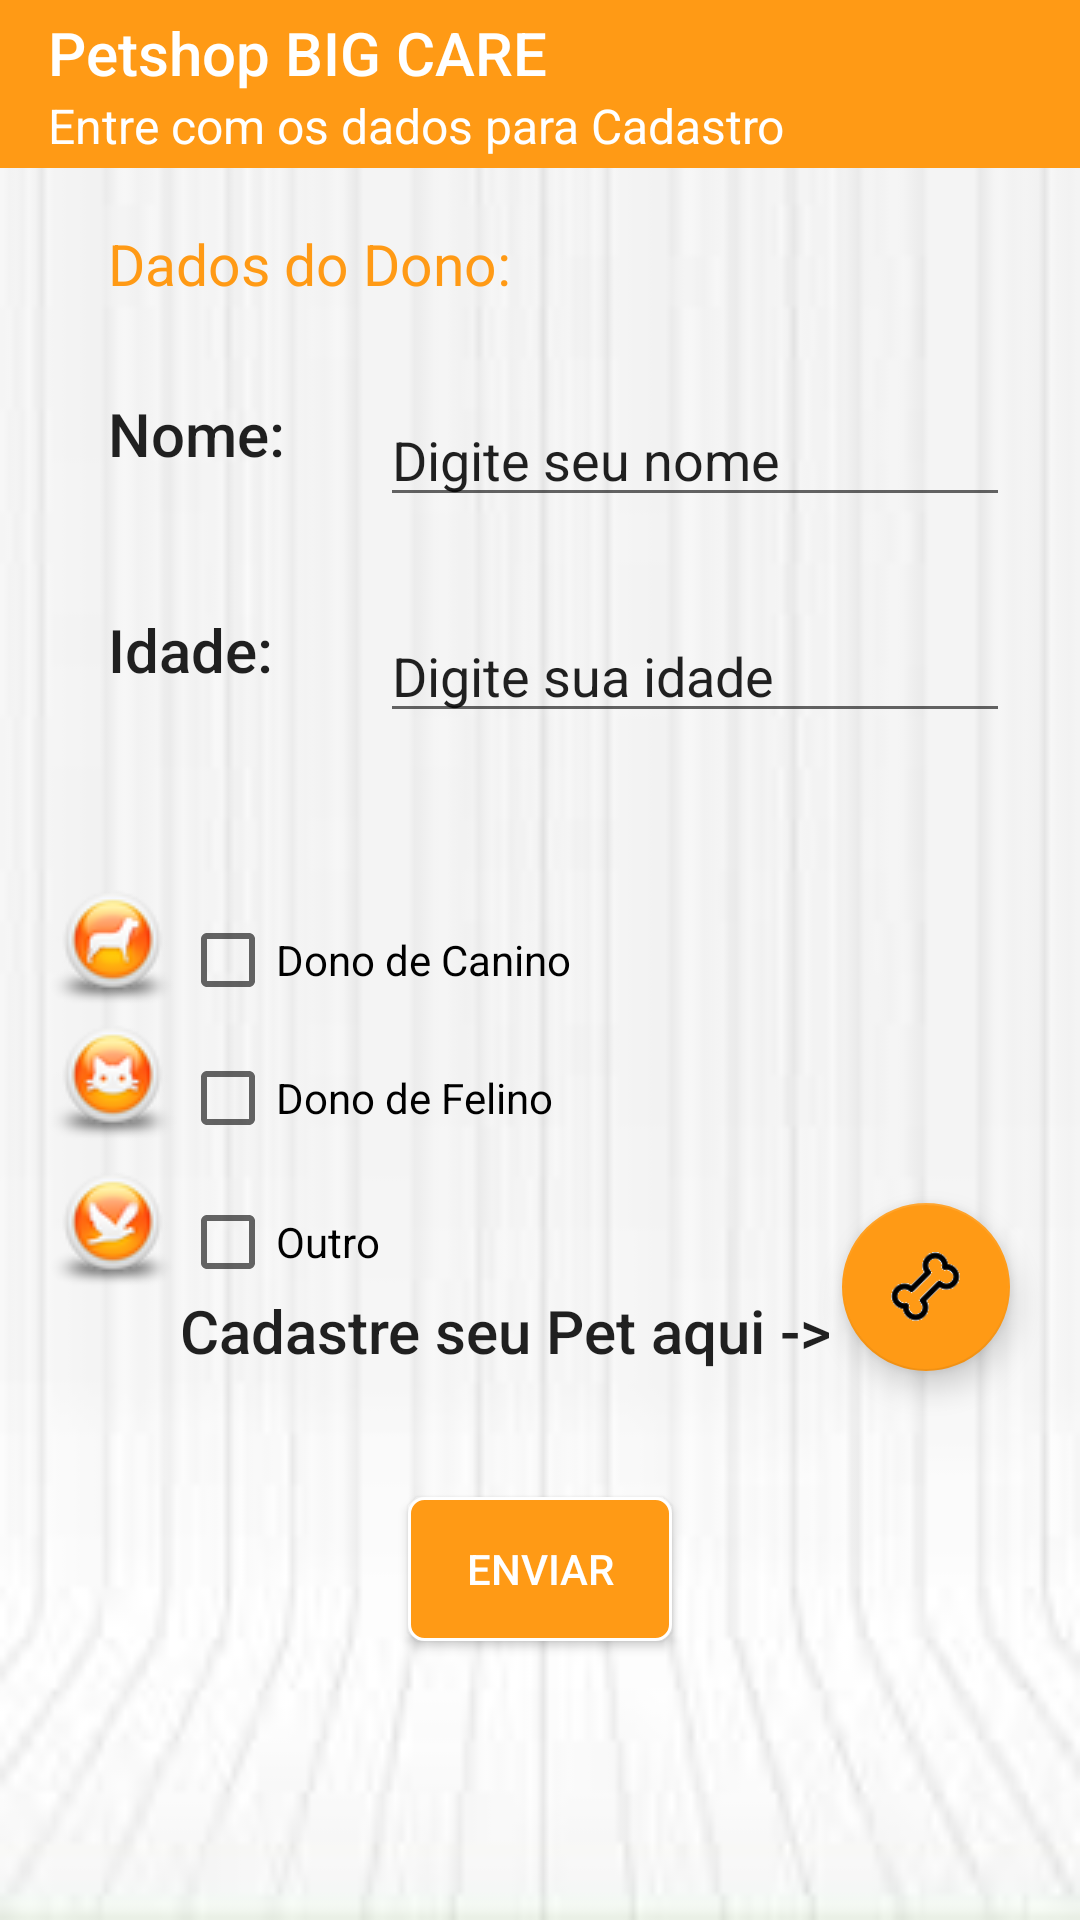

Icon click points for this 1080x1920 phone screenshot, format point (x, y):
bone: point (926, 1287)
